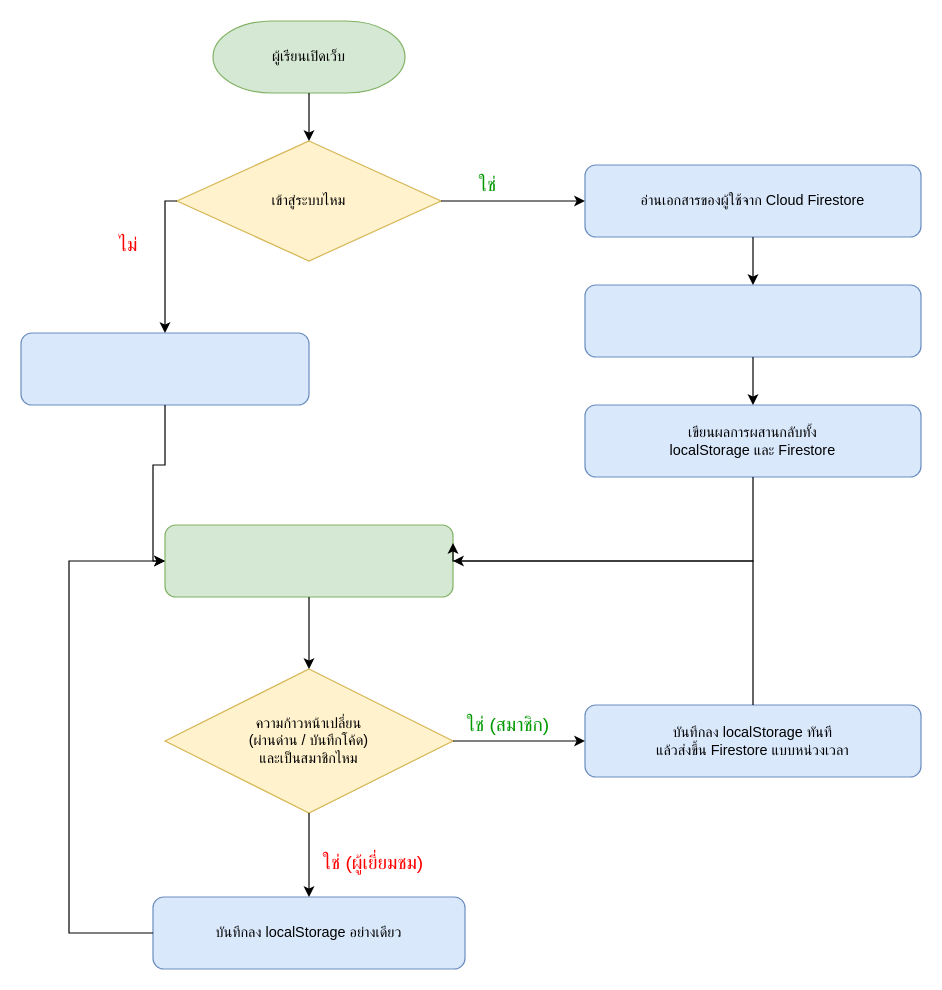
Some shapes in this 942 by 990 pixel diagram are drawn without their labels. Each missing label, with the centre of its shape:
ผสานข้อมูล local กับ cloud ตามกติกาการผสาน (เลือกฝั่งที่ก้าวหน้ากว่า): (752,320)
เรียนตามปกติ: (308,560)
ใช้ localStorage อย่างเดียว: (164,368)
